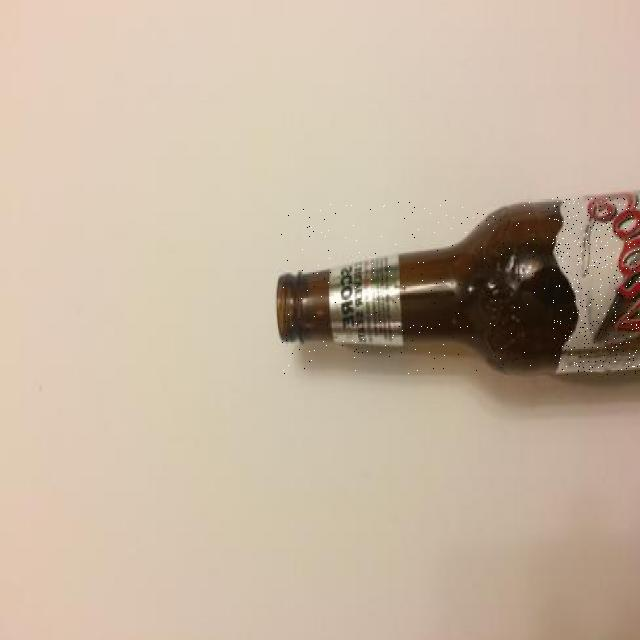glass: (277, 200, 582, 374)
paper: (552, 197, 640, 374)
